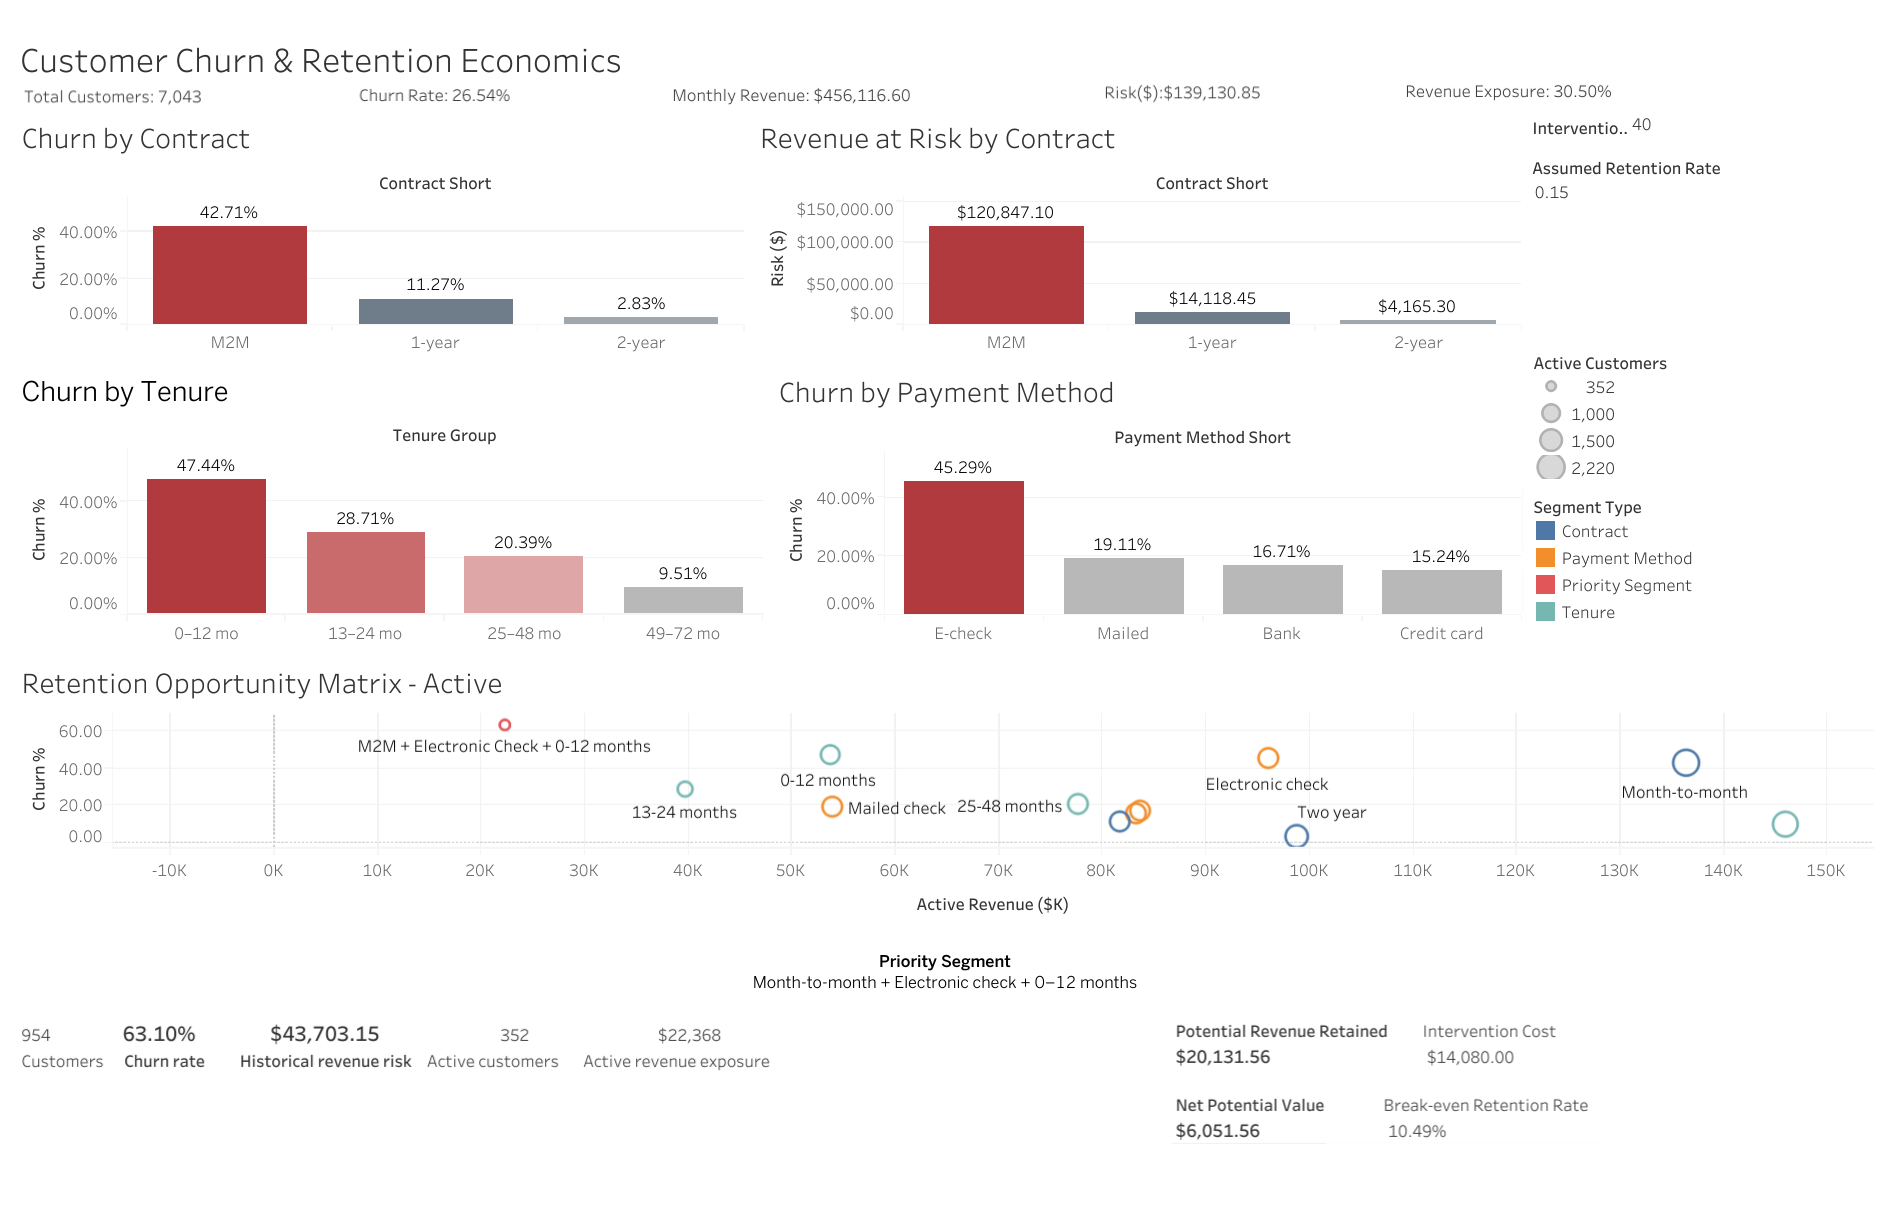

Layout of this report page (visuals, bound fields, positions):
{"tool":"tableau","page":{"name":"Customer Churn & Retention Economics","canvas":[1400,900],"ordinal":0},"visuals":[{"type":"title","box":[8,8,1384,70]},{"type":"worksheet","title":"KPI-Revenue Exposure","mark":"Automatic","box":[1037,57,247,27]},{"type":"worksheet","title":"KPI-Revenue at Risk","mark":"Automatic","box":[814,58,221,28]},{"type":"worksheet","title":"KPI-Churn Rate","mark":"Automatic","box":[262,60,234,29]},{"type":"worksheet","title":"KPI-Monthly Revenue","mark":"Automatic","box":[494,60,295,25]},{"type":"worksheet","title":"KPI-Total Customers","mark":"Automatic","box":[14,61,222,28]},{"type":"worksheet","title":"Churn by Contract","mark":"Automatic","rows":["Calculation_2012151731154945"],"cols":["Calculation_0274923630997507"],"box":[8,78,540,196]},{"type":"worksheet","title":"Revenue at Risk by Contract","mark":"Automatic","rows":["Calculation_2012151739572226"],"cols":["Calculation_0274923630997507"],"box":[548,78,583,196]},{"type":"parameter","param":"[Parameters].[Parameter 2012151789420553]","box":[1131,78,261,65]},{"type":"parameter","param":"[Parameters].[Parameter 2012151789785098]","box":[1131,143,261,348]},{"type":"worksheet","title":"Churn by Tenure","mark":"Automatic","rows":["Calculation_2012151731154945"],"cols":["Calculation_2012151754977284"],"box":[8,274,561,217]},{"type":"worksheet","title":"Churn by Payment Method","mark":"Automatic","rows":["Calculation_2012151731154945"],"cols":["Calculation_0274923624370177"],"box":[569,274,562,217]},{"type":"worksheet","title":"Retention Opportunity Matrix","mark":"Automatic","rows":["Calculation_2012151739572226"],"cols":["Calculation_2012151731154945"],"box":[8,491,1123,206]},{"type":"legend","title":"Retention Opportunity Matrix","param":"[federated.0ea9qe81hblne81b0aw1r120r1uw].[usr:Calculation_0274923628421122:qk]","box":[1131,491,261,206]},{"type":"text","box":[8,697,1384,53]},{"type":"worksheet","title":"Priority Segment","mark":"Text","box":[8,750,855,142]},{"type":"worksheet","title":"Retention Economics","mark":"Text","box":[863,750,529,142]}]}

Visuals, with their boxes in screenshot pixels (x1, y1, x2, y2), scaled from the page's 1400x900 canvas onto the 1889x1214 screenshot:
title: box(11, 11, 1878, 105)
"KPI-Revenue Exposure" worksheet: box(1399, 77, 1732, 113)
"KPI-Revenue at Risk" worksheet: box(1098, 78, 1397, 116)
"KPI-Churn Rate" worksheet: box(354, 81, 669, 120)
"KPI-Monthly Revenue" worksheet: box(667, 81, 1065, 115)
"KPI-Total Customers" worksheet: box(19, 82, 318, 120)
"Churn by Contract" worksheet: box(11, 105, 739, 370)
"Revenue at Risk by Contract" worksheet: box(739, 105, 1526, 370)
parameter: box(1526, 105, 1878, 193)
parameter: box(1526, 193, 1878, 662)
"Churn by Tenure" worksheet: box(11, 370, 768, 662)
"Churn by Payment Method" worksheet: box(768, 370, 1526, 662)
"Retention Opportunity Matrix" worksheet: box(11, 662, 1526, 940)
"Retention Opportunity Matrix" legend: box(1526, 662, 1878, 940)
text: box(11, 940, 1878, 1012)
"Priority Segment" worksheet (Text marks): box(11, 1012, 1164, 1203)
"Retention Economics" worksheet (Text marks): box(1164, 1012, 1878, 1203)
